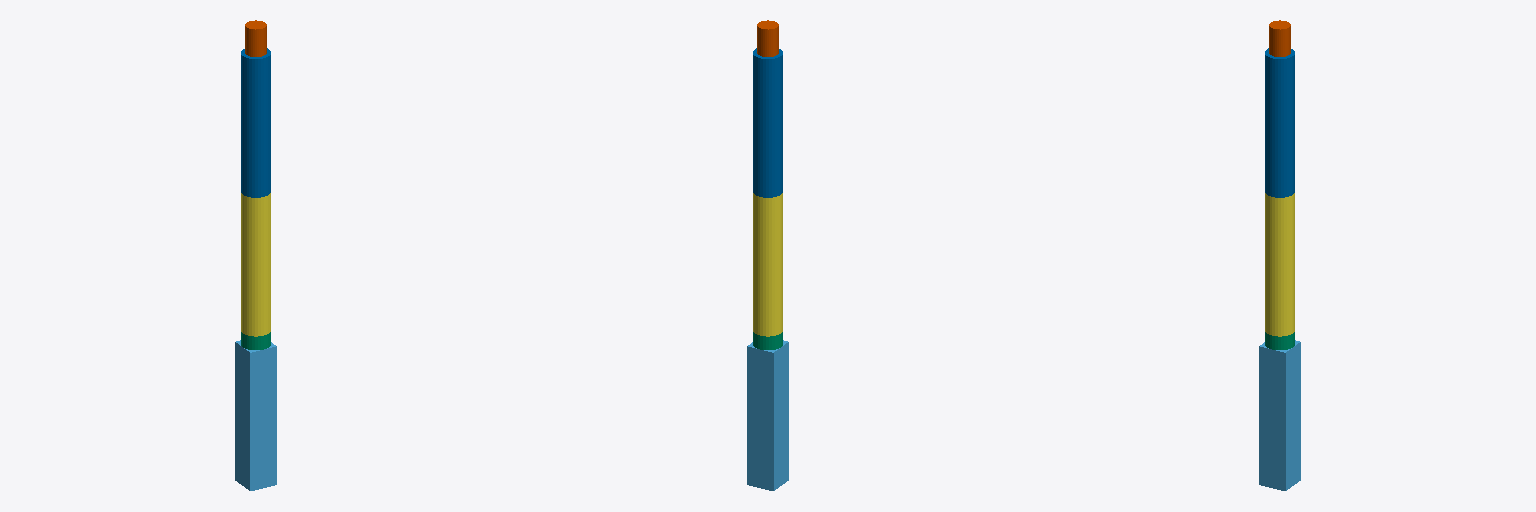
The robot description file, URDF, robot "gripper_robot":
<?xml version="1.0"?>
<robot  name="gripper_robot">

<!-- only movable links have number in the name, like link1, link2 -->
<!-- only movable links have number in the name, like joint1, joint2 -->

<!-- world link -->
<link name="world"/>

<!-- base_link and its fixed joint -->
<joint name="joint_fix" type="fixed">
	<parent link="world"/>
	<child link="base_link"/>
</joint>

<link name="base_link">
	<collision>
		<origin xyz="0 0 0.5" rpy="0 0 0"/>
		<geometry>
			<box size="0.2 0.2 0.7"/>
		</geometry>
	</collision>

	<visual>
		<origin xyz="0 0 0.5" rpy="0 0 0"/>
		<geometry>
			<box size="0.2 0.2 1"/>
		</geometry>
	</visual>

	<inertial>
		<origin xyz="0 0 0.5" rpy="0 0 0"/>
		<mass value="1"/>
		<inertia
			ixx="1.0" ixy="0.0" ixz="0.0"
			iyy="1.0" iyz="0.0"
			izz="1.0"/>
	</inertial>
</link>

<!-- link1 and its revolute joint1 relative to base_link -->
<!-- rotating along z axis -->
<joint name="joint1" type="revolute">
	<parent link="base_link"/>
	<child link="link1"/>
	<origin xyz="0 0 1" rpy="0 0 0"/>
	<axis xyz="0 0 1"/>
	<limit effort="100" velocity="100" lower="-1.5708" upper="1.5708"/>
</joint>

<link name="link1">
	<collision>
		<origin xyz="0 0 0.05" rpy="0 0 0"/>
		<geometry>
			<cylinder length="0.1" radius="0.1"/>
		</geometry>
	</collision>

	<visual>
		<origin xyz="0 0 0.05" rpy="0 0 0"/>
		<geometry>
			<cylinder length="0.1" radius="0.1"/>
		</geometry>
	</visual>

	<inertial>
		<origin xyz="0 0 0.05" rpy="0 0 0"/>
		<mass value="1"/>
		<inertia
			ixx="0.001" ixy="0.0" ixz="0.0"
			iyy="0.001" iyz="0.0"
			izz="0.001"/>
	</inertial>
</link>

<gazebo reference="link1">
	<material>Gazebo/Grey</material>
</gazebo>

<!-- link2 and its revolute joint2 relative to link1 -->
<!-- rotating along y axis -->
<joint name="joint2" type="revolute">
	<parent link="link1"/>
	<child link="link2"/>
	<origin xyz="0 0 0.1" rpy="0 0 0"/>
	<axis xyz="0 1 0"/>
	<limit effort="100" velocity="100" lower="-0.1" upper="3.1416"/>
</joint>

<link name="link2">
	<collision>
		<origin xyz="0 0 0.5" rpy="0 0 0"/>
		<geometry>
			<cylinder length="1" radius="0.1"/>
		</geometry>
	</collision>

	<visual>
		<origin xyz="0 0 0.5" rpy="0 0 0"/>
		<geometry>
			<cylinder length="1" radius="0.1"/>
		</geometry>
	</visual>

	<inertial>
		<origin xyz="0 0 0.5" rpy="0 0 0"/>
		<mass value="1"/>
		<inertia
			ixx="0.1" ixy="0.0" ixz="0.0"
			iyy="0.1" iyz="0.0"
			izz="0.005"/>
	</inertial>
</link>

<gazebo reference="link2">
	<material>Gazebo/Grey</material>
</gazebo>

<!-- link3 and its revolute joint3 relative to link2 -->
<!-- rotating along y axis -->
<joint name="joint3" type="revolute">
	<parent link="link2"/>
	<child link="link3"/>
	<origin xyz="0 0 1" rpy="0 0 0"/>
	<axis xyz="0 1 0"/>
	<limit effort="100" velocity="100" lower="-1.5708" upper="1.5708"/>
</joint>

<link name="link3">
	<collision>
		<origin xyz="0 0 0.5" rpy="0 0 0"/>
		<geometry>
			<cylinder length="1" radius="0.1"/>
		</geometry>
	</collision>

	<visual>
		<origin xyz="0 0 0.5" rpy="0 0 0"/>
		<geometry>
			<cylinder length="1" radius="0.1"/>
		</geometry>
	</visual>

	<inertial>
		<origin xyz="0 0 0.5" rpy="0 0 0"/>
		<mass value="1"/>
		<inertia
			ixx="0.1" ixy="0.0" ixz="0.0"
			iyy="0.1" iyz="0.0"
			izz="0.005"/>
	</inertial>
</link>

<gazebo reference="link3">
	<material>Gazebo/Grey</material>
</gazebo>

<!-- link4 and its revolute joint4 relative to link3 -->
<!-- rotating along y axis -->
<joint name="joint4" type="revolute">
	<parent link="link3"/>
	<child link="link4"/>
	<origin xyz="0 0 1" rpy="0 0 0"/>
	<axis xyz="1 0 0"/>
	<limit effort="100" velocity="100" lower="-1.5708" upper="1.5708"/>
</joint>

<link name="link4">
	<collision>
		<origin xyz="0 0 0" rpy="0 0 0"/>
		<geometry>
			<cylinder length="0.4" radius="0.07"/>
		</geometry>
	</collision>

	<visual>
		<origin xyz="0 0 0" rpy="0 0 0"/>
		<geometry>
			<cylinder length="0.4" radius="0.07"/>
		</geometry>
	</visual>

	<inertial>
		<origin xyz="0 0 0" rpy="0 0 0"/>
		<mass value="0.4"/>
		<inertia
			ixx="0.05" ixy="0.0" ixz="0.0"
			iyy="0.002" iyz="0.0"
			izz="0.05"/>
	</inertial>
</link>

<gazebo reference="link4">
	<material>Gazebo/Red</material>
</gazebo>

</robot>

--- What the picture shows (computed from the rendered views, not written in the file) ---
Views: 3 orthographic renders of the robot side by side, from view 1: azimuth 30°, elevation 25°; view 2: azimuth 150°, elevation 25°; view 3: azimuth 330°, elevation 25°.
Robot: gripper_robot — 6 links, 5 joints (4 revolute, 1 fixed); root link world; default pose: every joint at zero.
Links seen in each view (by area): view 1: base_link, link3, link2, link4; view 2: base_link, link3, link2, link4; view 3: base_link, link3, link2, link4.
Boxes of the visible links, left/top/right/bottom form: base_link: left=235, top=340, right=276, bottom=490; link3: left=241, top=48, right=270, bottom=197; link2: left=241, top=193, right=270, bottom=336; link4: left=245, top=20, right=266, bottom=56; base_link: left=747, top=340, right=788, bottom=490; link3: left=753, top=48, right=782, bottom=197; link2: left=753, top=193, right=782, bottom=336; link4: left=757, top=20, right=778, bottom=56; base_link: left=1259, top=340, right=1300, bottom=490; link3: left=1265, top=48, right=1294, bottom=197; link2: left=1265, top=193, right=1294, bottom=336; link4: left=1269, top=20, right=1290, bottom=56.
Size in the robot's own frame: 0.2 by 0.2 by 3.3 metres.
Geometry: primitives only (box / cylinder / sphere), no mesh files.